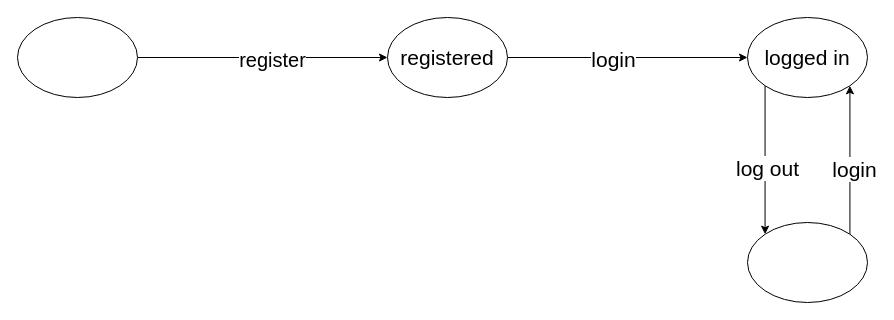
Image size: 894x320. Some labels were removed from this diagram. The shapes that lost their labels are listed below. From the top down, each one's centre as x and y in pixels, then its label:
At point 77,57: "unregistered".
At point 807,262: "logged out".
